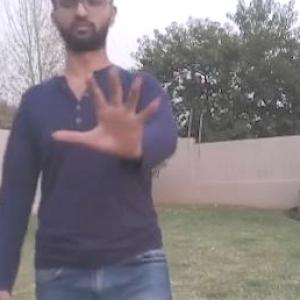follow_hand: (48, 58, 173, 164)
